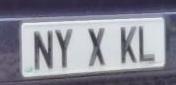K: (117, 22, 139, 70)
L: (136, 20, 159, 66)
N: (31, 25, 56, 76)
X: (82, 23, 110, 72)
Y: (53, 24, 76, 70)
